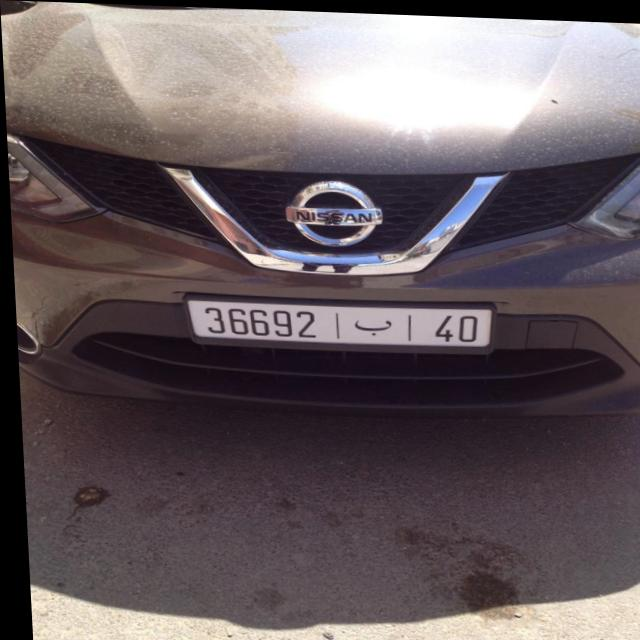License-Plate: (182, 298, 490, 350)
